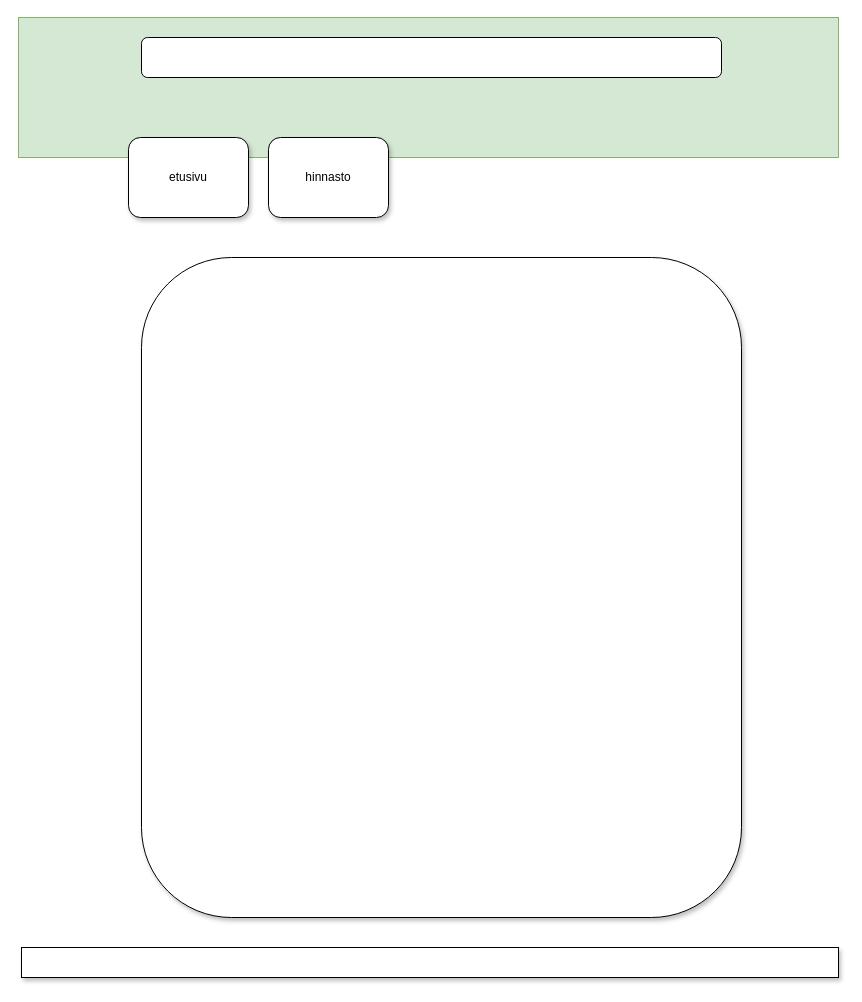
Image size: 862x1002. Some labels were removed from this diagram. Each missing label, with the centre of its shape:
"seminaari ILMOITTAUTUMIINEN logo" belongs at pixel 431 57.
"yhteystiedot tms" belongs at pixel 430 963.
